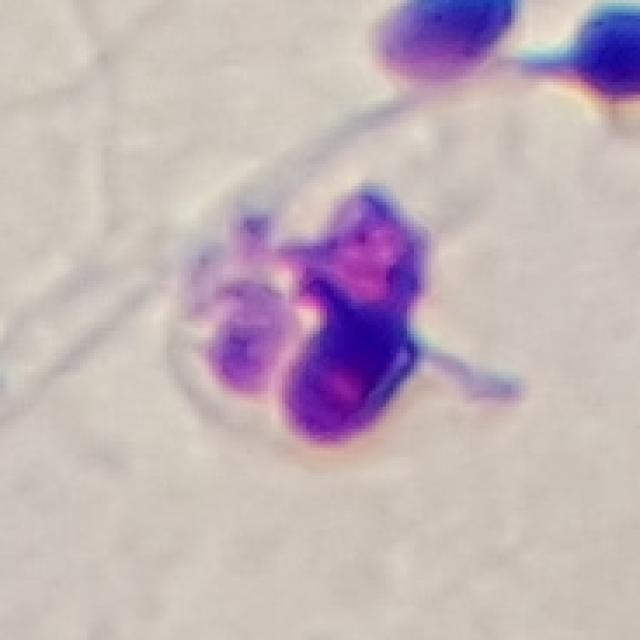non-sperm: (192, 186, 436, 445)
